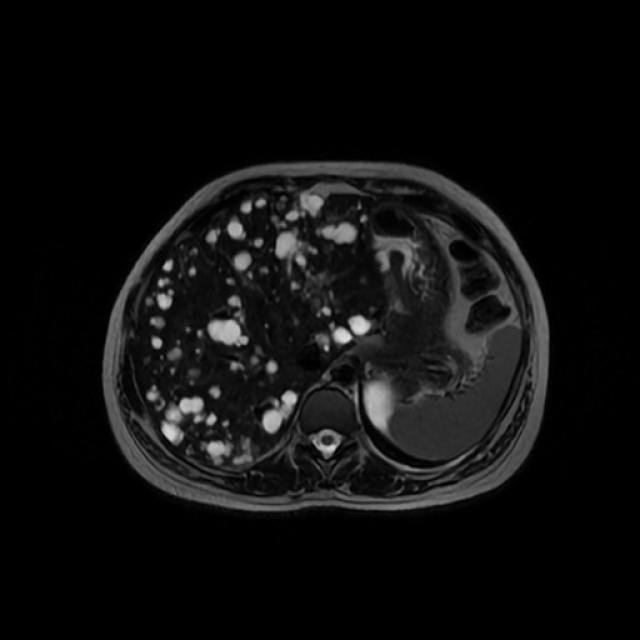sol: (366, 380, 396, 424)
